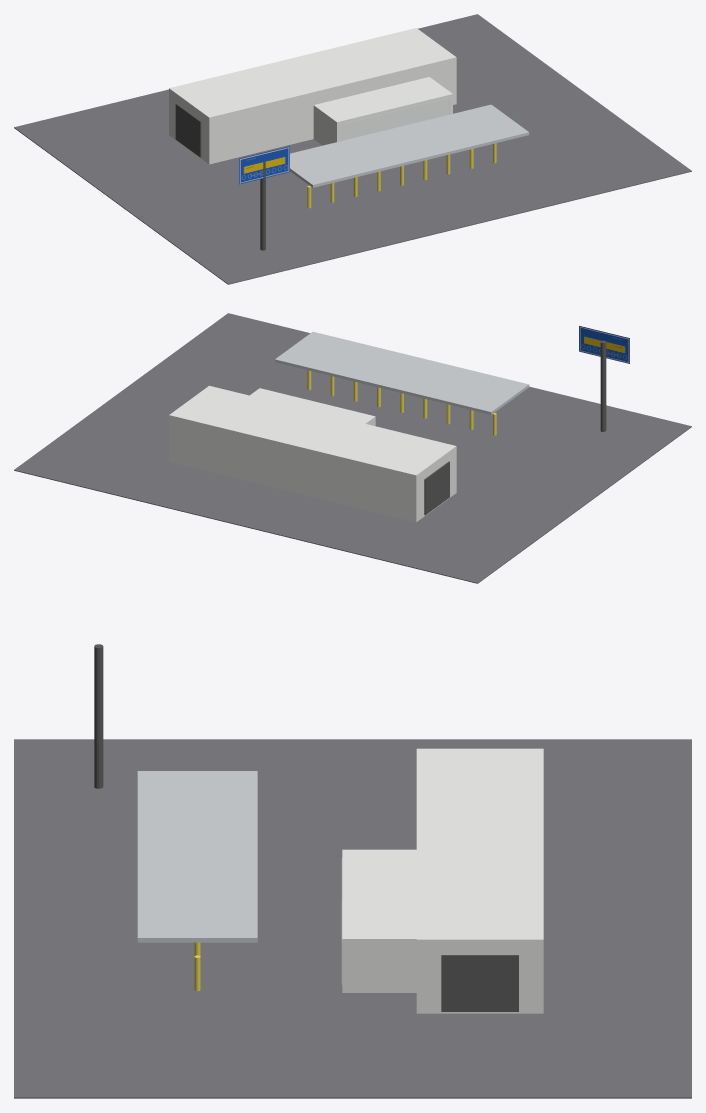
Rendered from a1a_carwash.glb.
3 renders of one model, top to bottom at view 1: azimuth 30°, elevation 25°; view 2: azimuth 150°, elevation 25°; view 3: azimuth 270°, elevation 25°, orthographic. The views are drawn at different scales.
Visible parts, largest first — view 1: A1A_Carwash_lot, A1A_Carwash_tunnel_walls, A1A_Carwash_canopy_roof, A1A_Carwash_office, A1A_Carwash_lobby_glass, A1A_Carwash_sign_f, A1A_Carwash_in_portal, A1A_Carwash_sign_post, A1A_Carwash; view 2: A1A_Carwash_lot, A1A_Carwash_tunnel_walls, A1A_Carwash_canopy_roof, A1A_Carwash_office, A1A_Carwash_sign_f, A1A_Carwash_in_portal, A1A_Carwash_sign_post, A1A_Carwash; view 3: A1A_Carwash_lot, A1A_Carwash_tunnel_walls, A1A_Carwash_canopy_roof, A1A_Carwash_office, A1A_Carwash_out_portal, A1A_Carwash_sign_post.
Part boxes in pixels (x1,y1,x2,y2): A1A_Carwash_lot: [14, 14, 691, 284]; A1A_Carwash_tunnel_walls: [169, 28, 456, 164]; A1A_Carwash_canopy_roof: [290, 104, 529, 187]; A1A_Carwash_office: [313, 77, 452, 145]; A1A_Carwash_lobby_glass: [341, 98, 449, 140]; A1A_Carwash_sign_f: [239, 146, 289, 184]; A1A_Carwash_in_portal: [175, 103, 201, 157]; A1A_Carwash_sign_post: [260, 161, 265, 250]; A1A_Carwash: [400, 143, 496, 185]; A1A_Carwash_lot: [14, 313, 691, 583]; A1A_Carwash_tunnel_walls: [169, 385, 456, 522]; A1A_Carwash_canopy_roof: [275, 331, 529, 414]; A1A_Carwash_office: [250, 388, 375, 426]; A1A_Carwash_sign_f: [579, 326, 629, 363]; A1A_Carwash_in_portal: [424, 461, 449, 515]; A1A_Carwash_sign_post: [600, 340, 606, 431]; A1A_Carwash: [307, 370, 403, 412]; A1A_Carwash_lot: [14, 739, 691, 1098]; A1A_Carwash_tunnel_walls: [416, 748, 543, 1013]; A1A_Carwash_canopy_roof: [137, 771, 257, 942]; A1A_Carwash_office: [342, 849, 416, 992]; A1A_Carwash_out_portal: [441, 955, 518, 1011]; A1A_Carwash_sign_post: [94, 644, 103, 788].
Size of what is drawn, in the model's own units: 60 by 12.2 by 48.
Materials: 13 (2 with a texture image).
